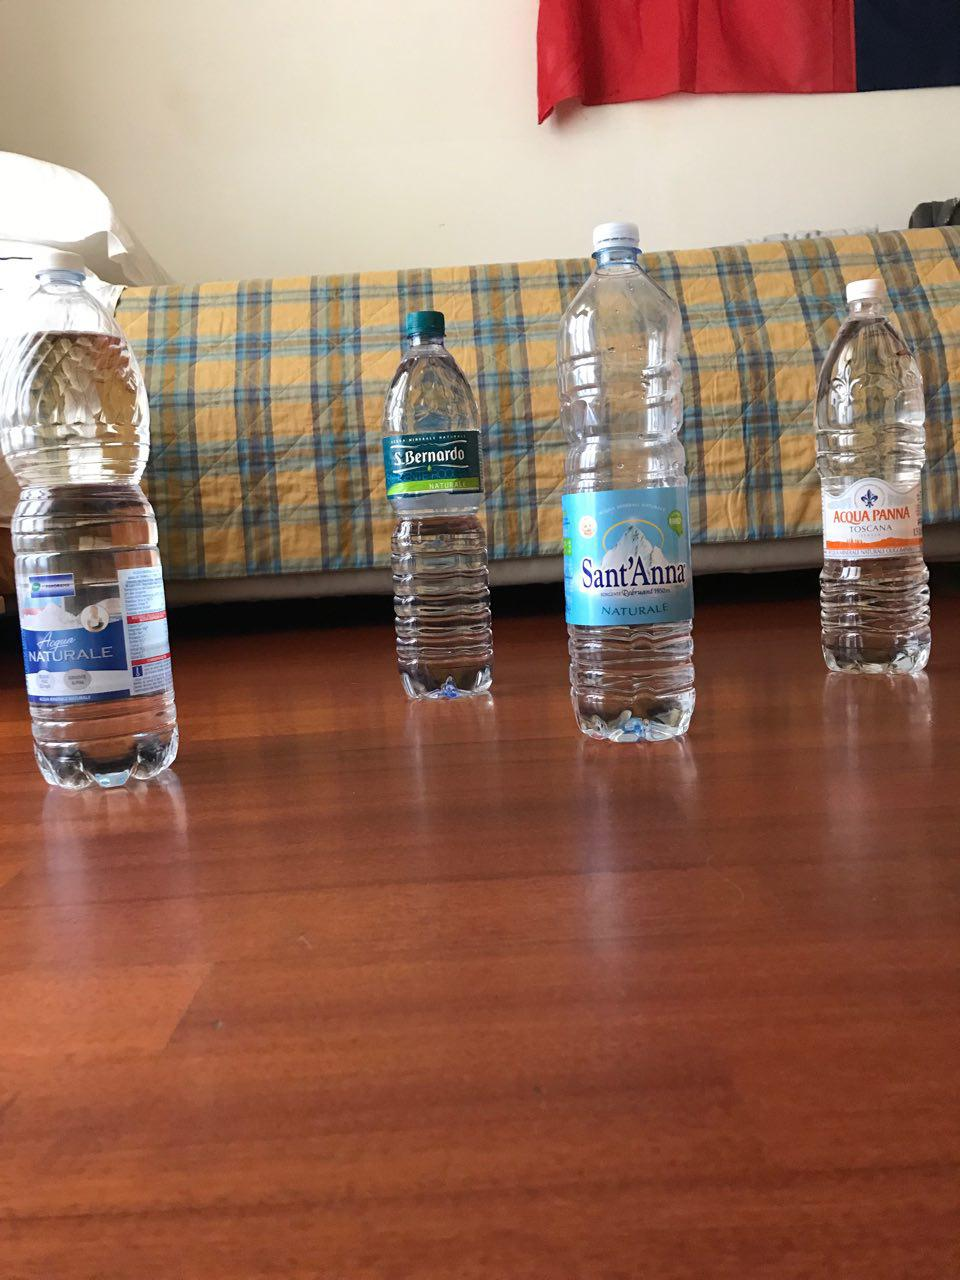san_bernardo: (380, 308, 493, 700)
